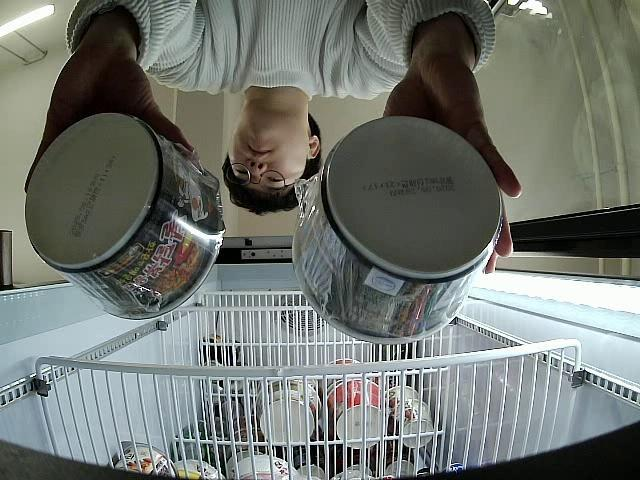07_buldak_L: (292, 114, 503, 346), (24, 110, 225, 320)
